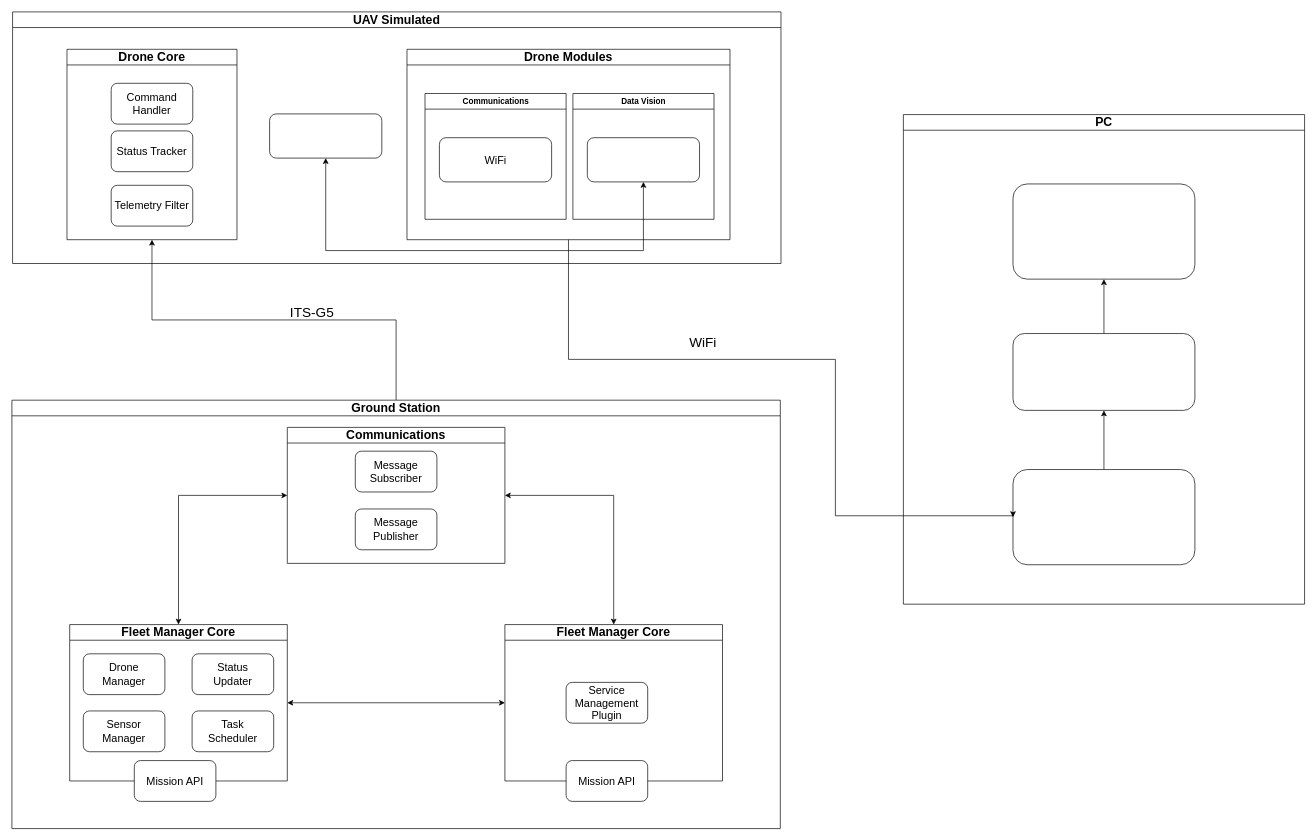
Image size: 1316x840. Some labels were removed from this diagram. The shapes that lost their labels are listed below. From the top down, each one's centre as x and y in pixels, then its label:
the point at 325,135: Camera
the point at 643,159: YOLOv8
the point at 1103,231: AUTOWARE
the point at 1103,371: MQTT2ROS
the point at 1103,517: MQTT BROKER
